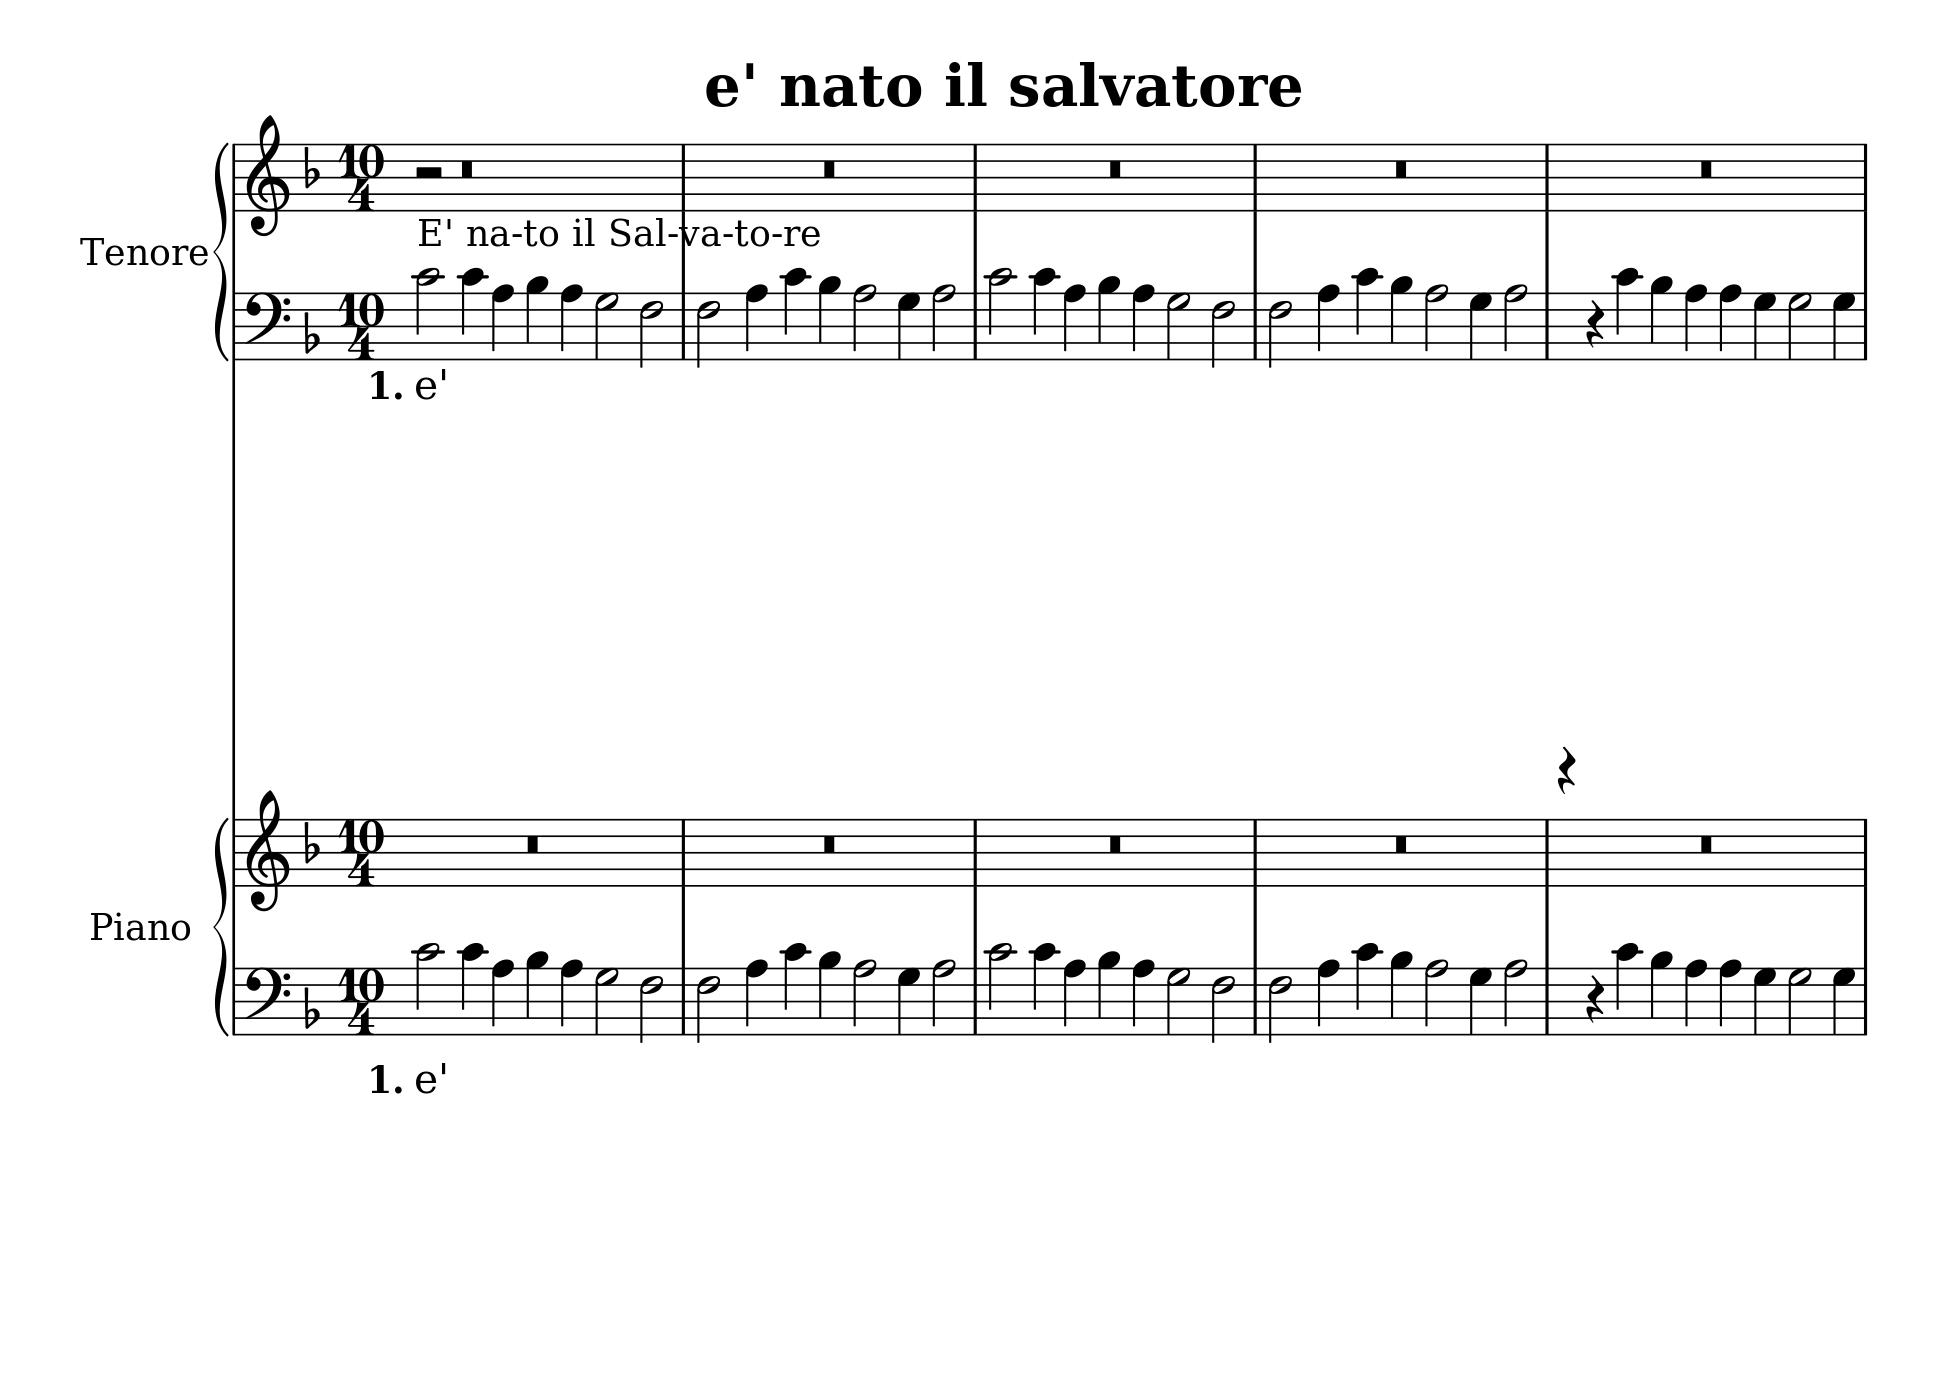0: (358, 141, 385, 175), (358, 289, 385, 324), (358, 817, 385, 850), (358, 966, 385, 999)
1: (337, 141, 358, 177), (337, 289, 358, 325), (337, 817, 358, 853), (337, 966, 358, 1000)
2_10: (985, 265, 1017, 363), (412, 940, 442, 1038), (412, 267, 442, 361), (985, 942, 1015, 1036)
2_6: (1267, 289, 1294, 369), (694, 964, 721, 1044), (1267, 964, 1294, 1044), (694, 289, 721, 367), (637, 964, 664, 1042), (1210, 966, 1237, 1044), (1210, 291, 1237, 367), (639, 289, 664, 367)
2_7: (592, 964, 619, 1036), (1786, 291, 1813, 361), (1165, 966, 1192, 1036), (1786, 966, 1813, 1036), (592, 291, 619, 360), (1165, 291, 1191, 361)
2_8: (852, 282, 879, 363), (931, 282, 958, 363), (1425, 282, 1452, 363), (852, 957, 879, 1038), (1503, 282, 1530, 361), (931, 957, 958, 1036), (1423, 958, 1450, 1038), (1503, 958, 1530, 1038)
4: (342, 999, 382, 1033), (342, 324, 381, 358), (342, 175, 379, 210), (343, 852, 379, 885)
4_10: (781, 265, 811, 361), (1614, 265, 1644, 361), (1030, 265, 1059, 363), (1030, 940, 1059, 1038), (459, 265, 487, 361), (1353, 265, 1381, 361), (781, 940, 810, 1036), (1353, 940, 1381, 1036), (1614, 942, 1642, 1036), (459, 940, 486, 1036)
4_7: (895, 291, 922, 361), (1467, 291, 1494, 361), (895, 966, 922, 1036), (1831, 291, 1857, 361), (1468, 966, 1494, 1036), (1752, 966, 1777, 1036), (1752, 292, 1777, 361), (1831, 966, 1857, 1035)
4_8: (1062, 282, 1089, 361), (742, 957, 769, 1036), (1131, 283, 1158, 361), (1683, 283, 1710, 361), (1062, 958, 1089, 1036), (1683, 958, 1710, 1036), (744, 282, 769, 361), (1317, 282, 1342, 361), (1719, 282, 1744, 361), (490, 283, 516, 361), (489, 958, 514, 1036), (558, 958, 583, 1036), (1131, 958, 1156, 1036), (559, 282, 583, 361), (1317, 957, 1341, 1036), (1719, 957, 1743, 1036)
4_9: (816, 949, 843, 1038), (1096, 274, 1123, 361), (1648, 274, 1675, 361), (1096, 949, 1123, 1036), (525, 274, 550, 361), (817, 274, 843, 361), (1389, 274, 1414, 361), (523, 949, 549, 1036), (1389, 949, 1414, 1036), (1648, 949, 1674, 1036)
Brace: (211, 814, 229, 1038), (211, 141, 229, 361)
Fclef: (241, 964, 292, 1036), (243, 289, 291, 361)
Flat: (300, 142, 321, 190), (300, 817, 321, 865), (301, 309, 319, 354), (301, 985, 319, 1029)
Gclef: (244, 787, 291, 913), (243, 112, 289, 235)
Pno: (87, 909, 193, 940)
Rests2: (409, 162, 445, 184)
Rests4: (1582, 297, 1606, 351), (1555, 742, 1579, 796), (1584, 973, 1606, 1026)
Single_barline: (673, 142, 691, 210), (1246, 144, 1264, 210), (1539, 144, 1557, 210), (1539, 292, 1557, 358), (1539, 819, 1557, 885), (1539, 967, 1557, 1033), (1857, 142, 1873, 211), (1857, 817, 1873, 886), (1248, 291, 1264, 358), (967, 967, 984, 1035), (967, 144, 984, 210), (675, 292, 691, 358), (967, 292, 984, 358), (675, 819, 691, 885), (967, 819, 984, 885), (1246, 819, 1263, 885), (675, 967, 691, 1033), (1248, 967, 1264, 1033), (226, 142, 241, 211), (1858, 291, 1873, 360), (1858, 967, 1873, 1035), (228, 817, 241, 886), (228, 291, 241, 358), (228, 967, 241, 1035)
TimeSig: (337, 142, 387, 211), (337, 817, 387, 886), (337, 289, 385, 360), (337, 966, 385, 1035)
